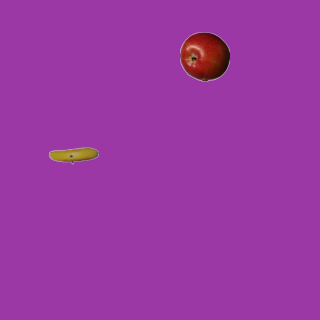Apple Braeburn: (179, 31, 229, 81)
Banana: (48, 130, 98, 180)
